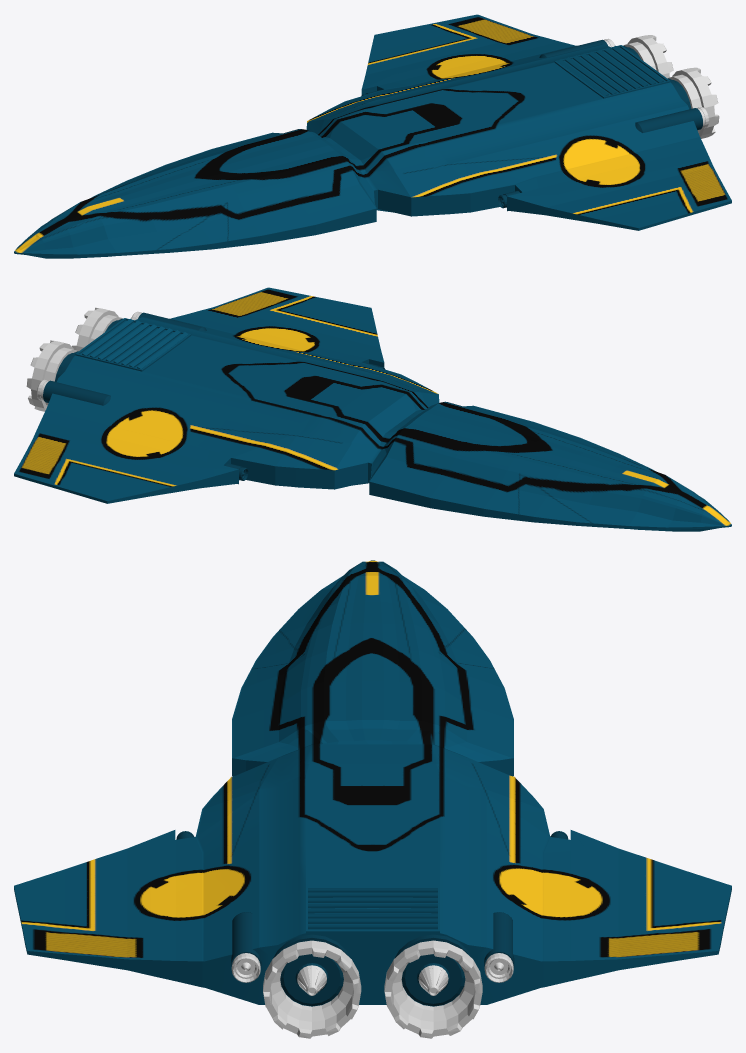
Rendered from Nave.obj.
3 renders of one model, top to bottom at view 1: azimuth 30°, elevation 25°; view 2: azimuth 150°, elevation 25°; view 3: azimuth 270°, elevation 25°, orthographic. The views are drawn at different scales.
Parts seen in each view (by area): view 1: group2 polySurface8, group2 pCylinder1, group2 pCylinder7, pCylinder2 group2; view 2: group2 polySurface8, group2 pCylinder7, group2 pCylinder1, group2 pCylinder8; view 3: group2 polySurface8, group2 pCylinder7, group2 pCylinder1, pCylinder2 group2, group2 pCylinder8.
Boxes of the visible parts, <box> form: group2 polySurface8: <box>14,14,731,258</box>; group2 pCylinder1: <box>667,67,719,138</box>; group2 pCylinder7: <box>623,35,673,78</box>; pCylinder2 group2: <box>635,107,709,132</box>; group2 polySurface8: <box>14,287,731,531</box>; group2 pCylinder7: <box>26,340,78,411</box>; group2 pCylinder1: <box>72,307,122,351</box>; group2 pCylinder8: <box>37,379,110,405</box>; group2 polySurface8: <box>14,560,731,1004</box>; group2 pCylinder7: <box>384,934,482,1038</box>; group2 pCylinder1: <box>263,934,361,1038</box>; pCylinder2 group2: <box>231,912,261,982</box>; group2 pCylinder8: <box>484,912,514,982</box>.
Size of the model in its own units: 18.9 by 1.78 by 13.01.
3 materials, 1 textured.
